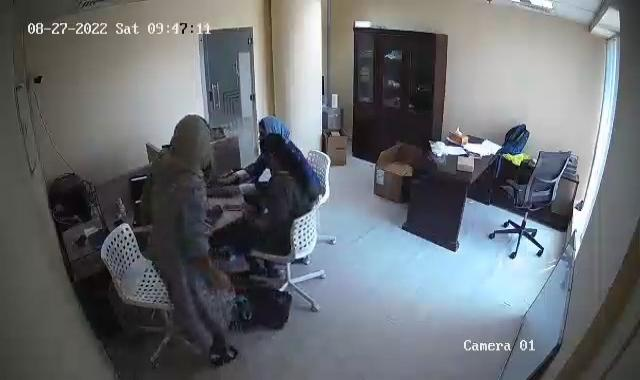no_hairnet: (172, 112, 211, 163), (256, 114, 291, 146), (259, 134, 292, 166)
